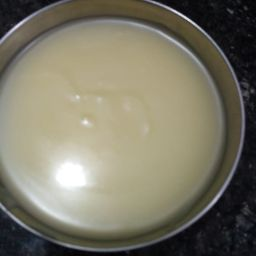Clarified Butter(ghee): (3, 74, 219, 192), (99, 23, 175, 245), (48, 80, 175, 174), (47, 31, 101, 236)
